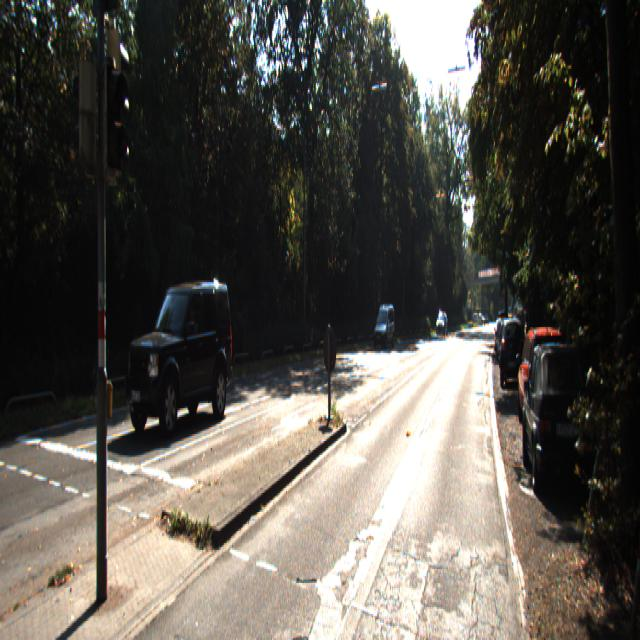Car: (123, 274, 236, 446), (520, 333, 599, 508), (515, 321, 574, 450), (500, 312, 524, 385), (374, 303, 396, 351)
